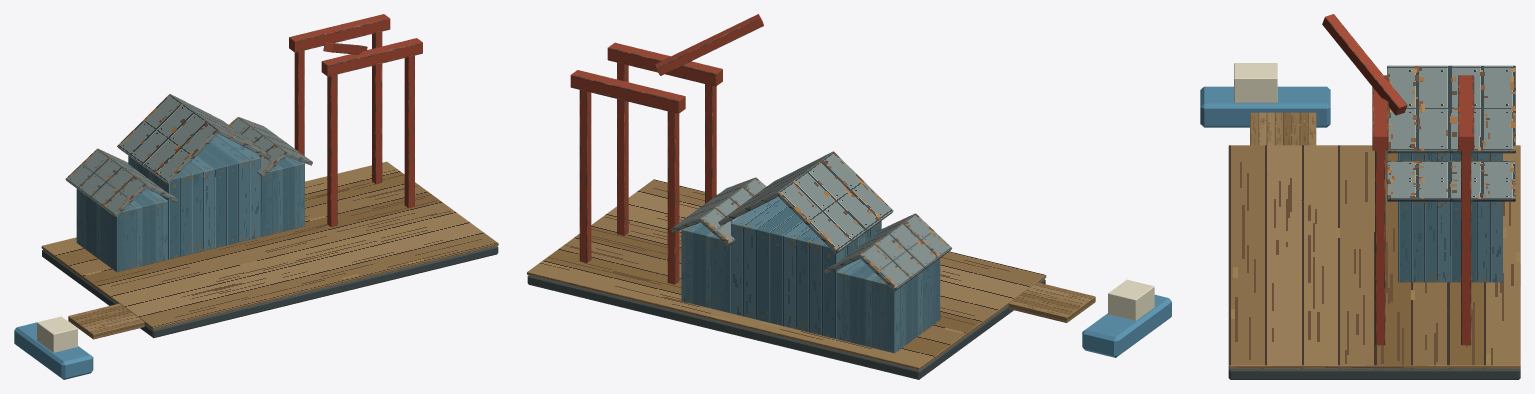
The model's file is insurance_blockout.glb.
3 renders of one model, left to right at view 1: azimuth 30°, elevation 25°; view 2: azimuth 150°, elevation 25°; view 3: azimuth 270°, elevation 25°, orthographic. The views are drawn at different scales.
Parts seen in each view (by area): view 1: INS_DeckBlockout, INS_Blockout_Central, INS_Blockout_LeftWing, INS_BlockoutRoof_Central-1, INS_DockFoundation, INS_Blockout_RightWing, INS_BlockoutRoof_Left-1, INS_TugBlockout, INS_TopGirder, INS_TopGirder.001, INS_WatersidePier, INS_CraneColumn (+9 smaller); view 2: INS_DeckBlockout, INS_Blockout_Central, INS_Blockout_LeftWing, INS_BlockoutRoof_Central-1, INS_DockFoundation, INS_Blockout_RightWing, INS_BlockoutRoof_Left-1, INS_TugBlockout, INS_TopGirder.001, INS_CraneColumn.003, INS_WatersidePier, INS_CraneColumn.001 (+9 smaller); view 3: INS_DeckBlockout, INS_BlockoutRoof_Central1, INS_Blockout_RightWing, INS_BlockoutRoof_Right1, INS_TugBlockout, INS_DockFoundation, INS_WatersidePier, INS_CraneColumn.002, INS_CraneColumn.003, INS_BoomBlockout, INS_TugCabinBlockout, INS_TopGirder.001 (+2 smaller).
Boxes of the visible parts, x1=… form: INS_DeckBlockout: x1=41, y1=161, x2=498, y2=329; INS_Blockout_Central: x1=128, y1=134, x2=260, y2=259; INS_Blockout_LeftWing: x1=76, y1=188, x2=167, y2=272; INS_BlockoutRoof_Central-1: x1=117, y1=94, x2=218, y2=184; INS_DockFoundation: x1=42, y1=246, x2=498, y2=338; INS_Blockout_RightWing: x1=261, y1=156, x2=304, y2=236; INS_BlockoutRoof_Left-1: x1=65, y1=148, x2=147, y2=216; INS_TugBlockout: x1=14, y1=322, x2=93, y2=379; INS_TopGirder: x1=321, y1=38, x2=422, y2=76; INS_TopGirder.001: x1=289, y1=14, x2=390, y2=52; INS_WatersidePier: x1=68, y1=303, x2=144, y2=339; INS_CraneColumn: x1=327, y1=74, x2=337, y2=226; INS_DeckBlockout: x1=527, y1=179, x2=1046, y2=370; INS_Blockout_Central: x1=731, y1=197, x2=881, y2=338; INS_Blockout_LeftWing: x1=836, y1=258, x2=940, y2=353; INS_BlockoutRoof_Central-1: x1=777, y1=151, x2=893, y2=253; INS_DockFoundation: x1=527, y1=275, x2=1045, y2=379; INS_Blockout_RightWing: x1=681, y1=222, x2=730, y2=313; INS_BlockoutRoof_Left-1: x1=859, y1=213, x2=951, y2=291; INS_TugBlockout: x1=1082, y1=294, x2=1171, y2=357; INS_TopGirder.001: x1=570, y1=70, x2=685, y2=113; INS_CraneColumn.003: x1=579, y1=90, x2=591, y2=263; INS_WatersidePier: x1=1008, y1=282, x2=1095, y2=322; INS_CraneColumn.001: x1=667, y1=111, x2=679, y2=284; INS_DeckBlockout: x1=1228, y1=145, x2=1520, y2=368; INS_BlockoutRoof_Central1: x1=1387, y1=66, x2=1515, y2=153; INS_Blockout_RightWing: x1=1398, y1=201, x2=1502, y2=282; INS_BlockoutRoof_Right1: x1=1387, y1=161, x2=1515, y2=201; INS_TugBlockout: x1=1200, y1=86, x2=1330, y2=127; INS_DockFoundation: x1=1228, y1=368, x2=1520, y2=379; INS_WatersidePier: x1=1250, y1=112, x2=1316, y2=145; INS_CraneColumn.002: x1=1375, y1=150, x2=1385, y2=345; INS_CraneColumn.003: x1=1461, y1=150, x2=1471, y2=345; INS_BoomBlockout: x1=1322, y1=14, x2=1407, y2=115; INS_TugCabinBlockout: x1=1234, y1=63, x2=1277, y2=102; INS_TopGirder.001: x1=1458, y1=75, x2=1474, y2=150.
Bounding box in the file's own units: 17.32 × 8.35 × 8.22.
Materials: 7 (4 with a texture image).
